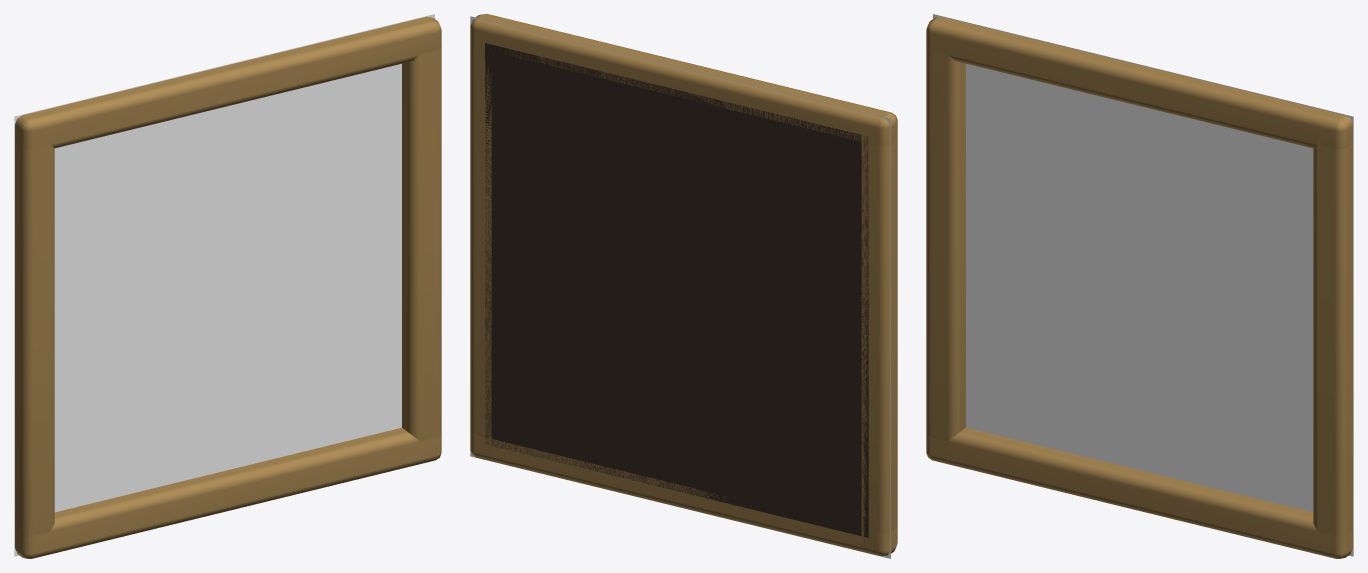
File: furn_framed_poem.glb
The picture shows the model from 3 angles, left to right: view 1: azimuth 30°, elevation 25°; view 2: azimuth 150°, elevation 25°; view 3: azimuth 330°, elevation 25°; orthographic projection.
Visible parts, largest first — view 1: furn_framed_poem_pic, furn_framed_poem_main; view 2: furn_framed_poem_main, furn_framed_poem_pic; view 3: furn_framed_poem_pic, furn_framed_poem_main.
Part boxes in pixels (<box>): furn_framed_poem_pic: <box>14,14,434,556</box>; furn_framed_poem_main: <box>15,16,441,558</box>; furn_framed_poem_main: <box>470,14,897,556</box>; furn_framed_poem_pic: <box>470,16,890,558</box>; furn_framed_poem_pic: <box>933,14,1353,556</box>; furn_framed_poem_main: <box>926,16,1352,558</box>.
Size of the model in its own units: 1 by 1 by 0.06.
